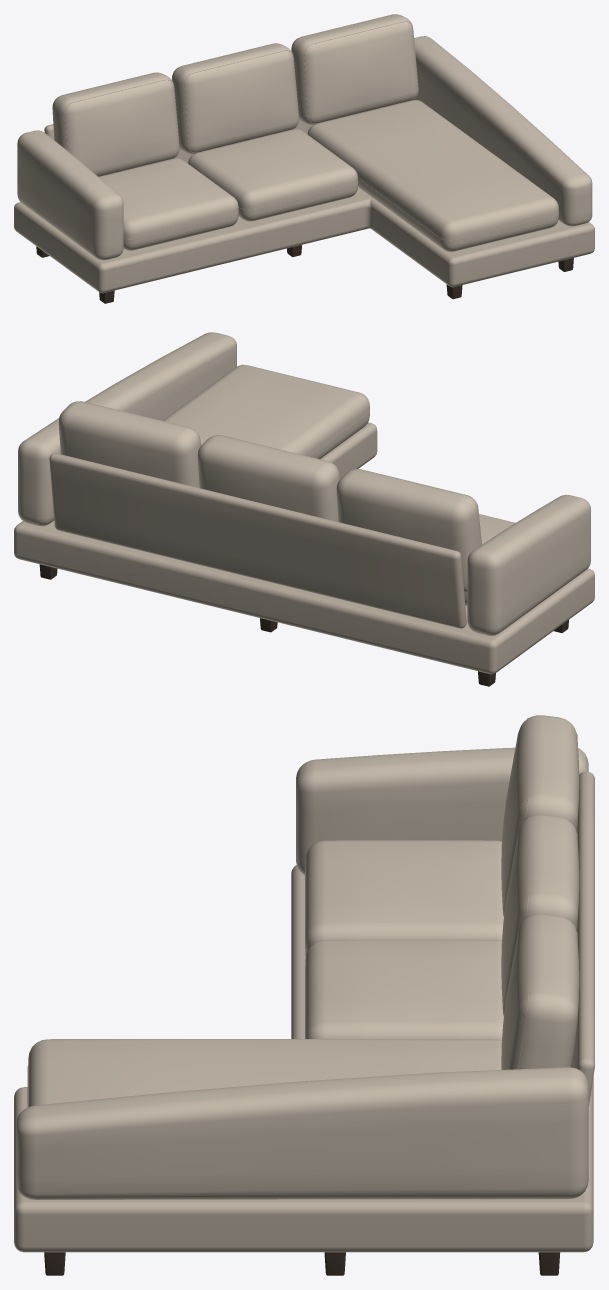
Rendered from sofa-l-shaped.glb.
3 renders of one model, top to bottom at view 1: azimuth 30°, elevation 25°; view 2: azimuth 150°, elevation 25°; view 3: azimuth 270°, elevation 25°, orthographic. The views are drawn at different scales.
Visible parts, largest first — view 1: EQ_sofa-l-shaped, EQ_sofa-l-shaped_Continuous_Upholstered_Base, EQ_sofa-l-shaped_Armrest_Right, EQ_sofa-l-shaped_Armrest_Left; view 2: EQ_sofa-l-shaped, EQ_sofa-l-shaped_Rear_Support, EQ_sofa-l-shaped_Continuous_Upholstered_Base, EQ_sofa-l-shaped_Armrest_Left, EQ_sofa-l-shaped_Armrest_Right; view 3: EQ_sofa-l-shaped, EQ_sofa-l-shaped_Armrest_Right, EQ_sofa-l-shaped_Continuous_Upholstered_Base, EQ_sofa-l-shaped_Armrest_Left, EQ_sofa-l-shaped_Rear_Support.
Part boxes in pixels (bbox=[...]): EQ_sofa-l-shaped: bbox=[36, 14, 573, 303]; EQ_sofa-l-shaped_Continuous_Upholstered_Base: bbox=[14, 187, 594, 293]; EQ_sofa-l-shaped_Armrest_Right: bbox=[413, 36, 592, 226]; EQ_sofa-l-shaped_Armrest_Left: bbox=[17, 130, 123, 260]; EQ_sofa-l-shaped: bbox=[39, 364, 568, 686]; EQ_sofa-l-shaped_Rear_Support: bbox=[49, 453, 466, 628]; EQ_sofa-l-shaped_Continuous_Upholstered_Base: bbox=[14, 422, 594, 674]; EQ_sofa-l-shaped_Armrest_Left: bbox=[467, 494, 590, 635]; EQ_sofa-l-shaped_Armrest_Right: bbox=[18, 332, 236, 526]; EQ_sofa-l-shaped: bbox=[27, 715, 579, 1275]; EQ_sofa-l-shaped_Armrest_Right: bbox=[16, 1067, 588, 1199]; EQ_sofa-l-shaped_Continuous_Upholstered_Base: bbox=[14, 865, 593, 1252]; EQ_sofa-l-shaped_Armrest_Left: bbox=[296, 747, 588, 874]; EQ_sofa-l-shaped_Rear_Support: bbox=[571, 771, 594, 1106].
Bounding box in the file's own units: 2.6 × 0.9156 × 1.84.
